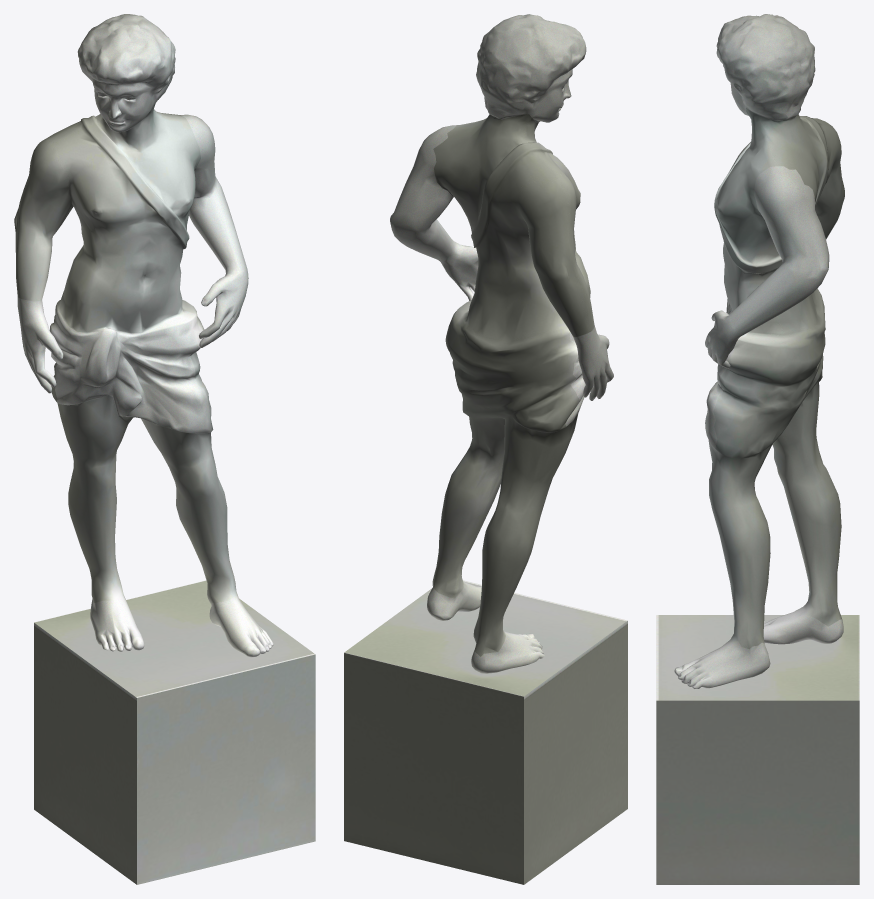
Rendered from statue1.fbx.
The picture shows the model from 3 angles, left to right: view 1: azimuth 30°, elevation 25°; view 2: azimuth 150°, elevation 25°; view 3: azimuth 270°, elevation 25°; orthographic projection. The views are drawn at different scales.
Parts seen in each view (by area): view 1: statue_01; view 2: statue_01; view 3: statue_01.
Part boxes in pixels (box(x1,y1,x2,y2)): statue_01: box(14, 14, 315, 884); statue_01: box(344, 14, 627, 884); statue_01: box(656, 14, 859, 884).
Bounding box in the file's own units: 93.3 × 326 × 75.
